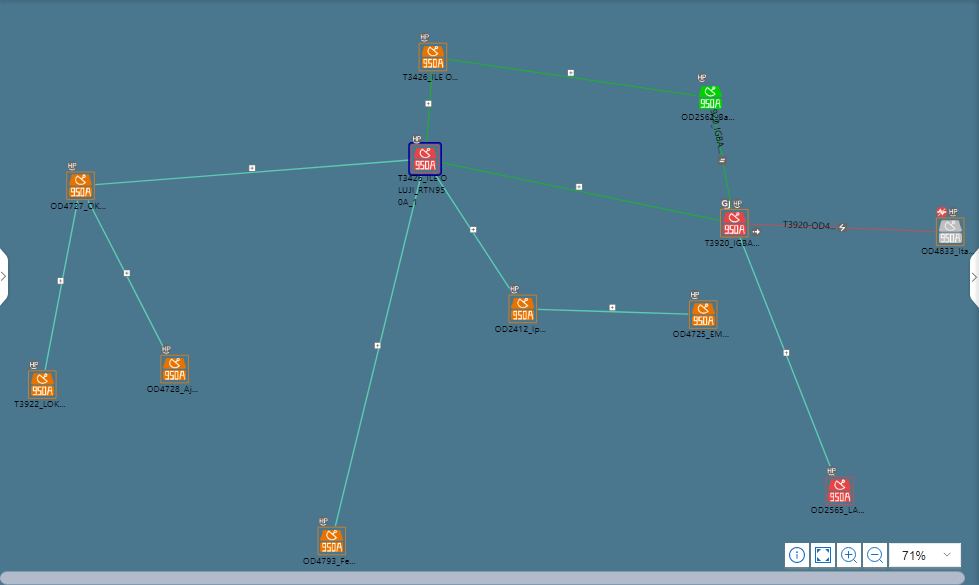Link_Blue: (333, 179, 421, 519), (737, 240, 834, 471), (89, 204, 164, 355), (437, 182, 516, 291), (95, 161, 355, 190), (46, 204, 81, 348), (577, 308, 693, 319)
Link_Green: (444, 161, 724, 227), (450, 57, 699, 95), (713, 123, 736, 208), (425, 69, 436, 123)
Link_Red: (776, 222, 932, 231)
RTN_Gray: (939, 222, 968, 244)
RTN_Green: (701, 88, 724, 110)
RTN_Orange: (162, 357, 191, 386), (688, 302, 717, 331), (419, 45, 448, 74), (315, 528, 343, 557), (511, 296, 534, 325), (28, 375, 57, 397), (70, 173, 92, 202)
RTN_Red: (719, 210, 745, 239), (829, 479, 852, 508), (413, 149, 442, 170)
